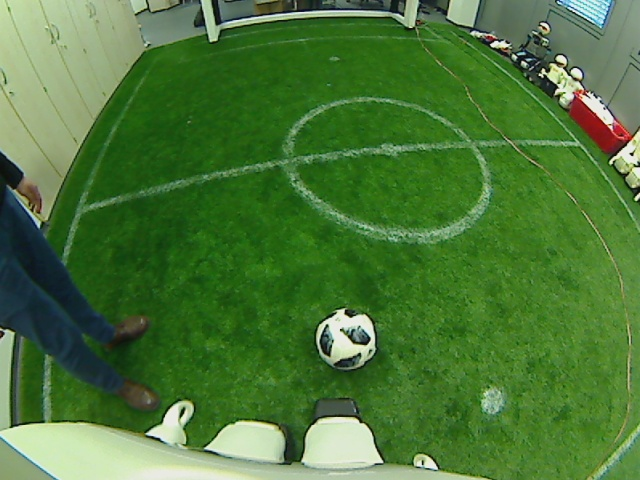ball: (312, 306, 377, 372)
